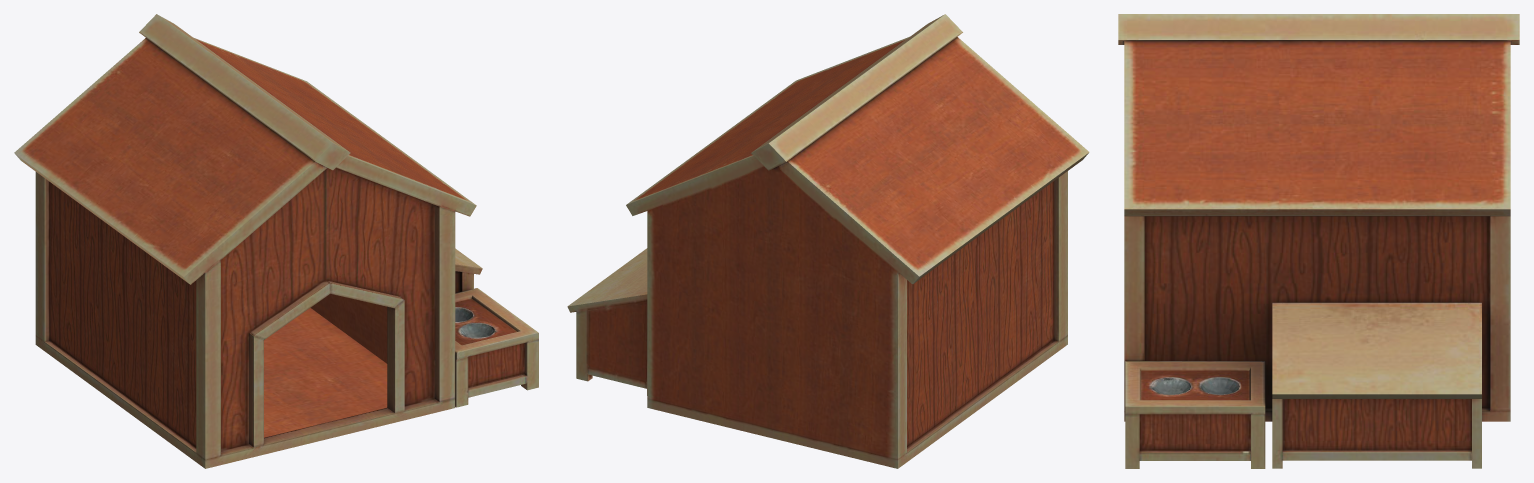
File: dog_house_1.FBX
The picture shows the model from 3 angles, left to right: view 1: azimuth 30°, elevation 25°; view 2: azimuth 150°, elevation 25°; view 3: azimuth 270°, elevation 25°; orthographic projection. The views are drawn at different scales.
Parts seen in each view (by area): view 1: dog_house_1; view 2: dog_house_1; view 3: dog_house_1.
Boxes of the visible parts, x1,y1,x2,y2 form: dog_house_1: [14, 14, 538, 468]; dog_house_1: [567, 14, 1089, 468]; dog_house_1: [1118, 14, 1519, 468].
Bounding box in the file's own units: 330 × 258 × 277.
1 material, 1 textured.
